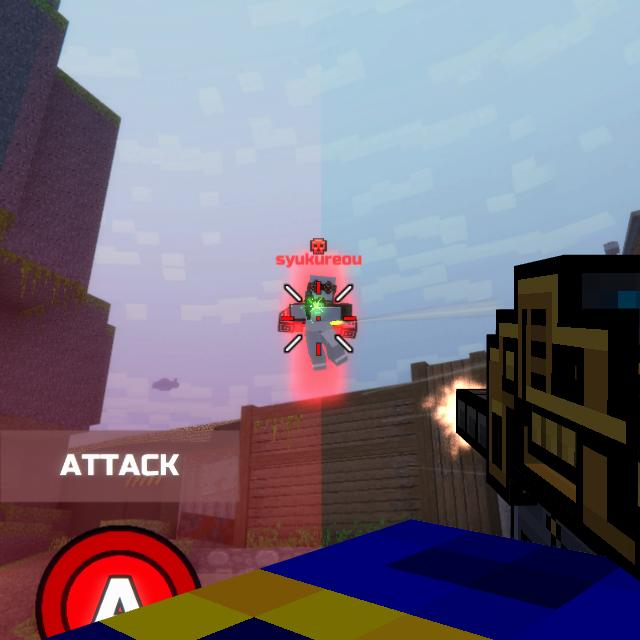Enemy: (290, 276, 355, 374)
